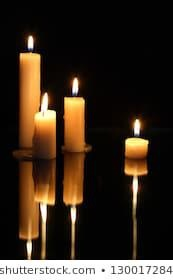fire: (39, 90, 52, 113), (68, 75, 81, 97), (25, 31, 38, 52), (130, 115, 142, 136)
